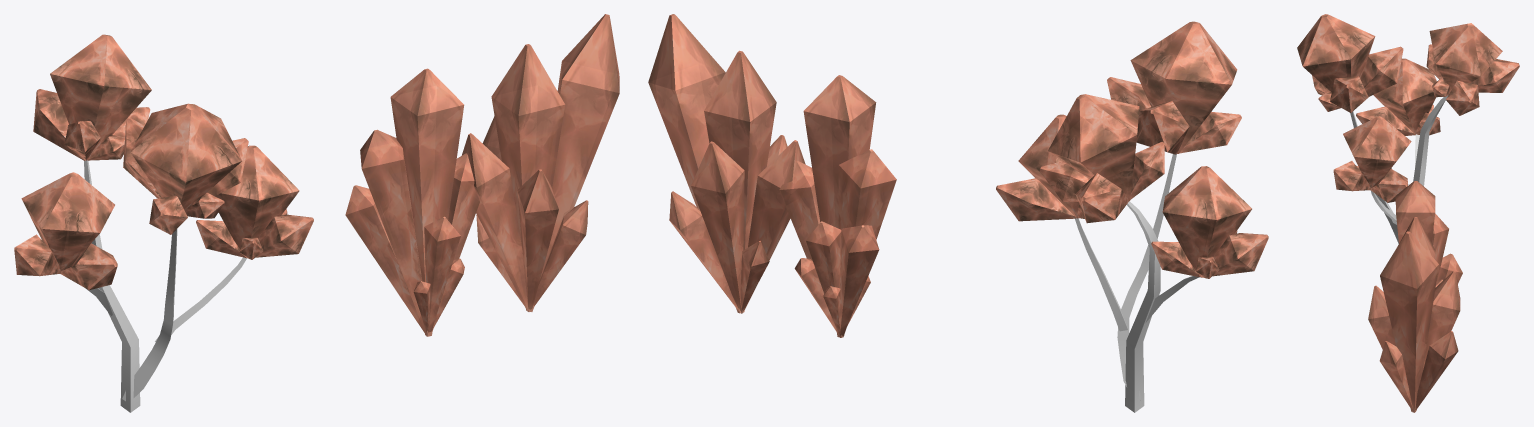
The model's file is trees-and-plants.glb.
The picture shows the model from 3 angles, left to right: view 1: azimuth 30°, elevation 25°; view 2: azimuth 150°, elevation 25°; view 3: azimuth 270°, elevation 25°; orthographic projection. The views are drawn at different scales.
Parts seen in each view (by area): view 1: tree-2, tall-plant-2, tall-plant-1; view 2: tree-2, tall-plant-2, tall-plant-1; view 3: tree-2, tall-plant-2, tall-plant-1.
Part boxes in pixels (x1=…): tree-2: x1=14, y1=34, x2=313, y2=412; tall-plant-2: x1=462, y1=14, x2=619, y2=311; tall-plant-1: x1=345, y1=68, x2=479, y2=336; tree-2: x1=996, y1=21, x2=1268, y2=412; tall-plant-2: x1=648, y1=14, x2=805, y2=313; tall-plant-1: x1=779, y1=75, x2=896, y2=337; tree-2: x1=1297, y1=14, x2=1519, y2=243; tall-plant-2: x1=1368, y1=217, x2=1460, y2=412; tall-plant-1: x1=1395, y1=181, x2=1462, y2=287.
Size of the model in its own units: 9.55 by 5.15 by 4.09.
Materials: 2 (1 with a texture image).
